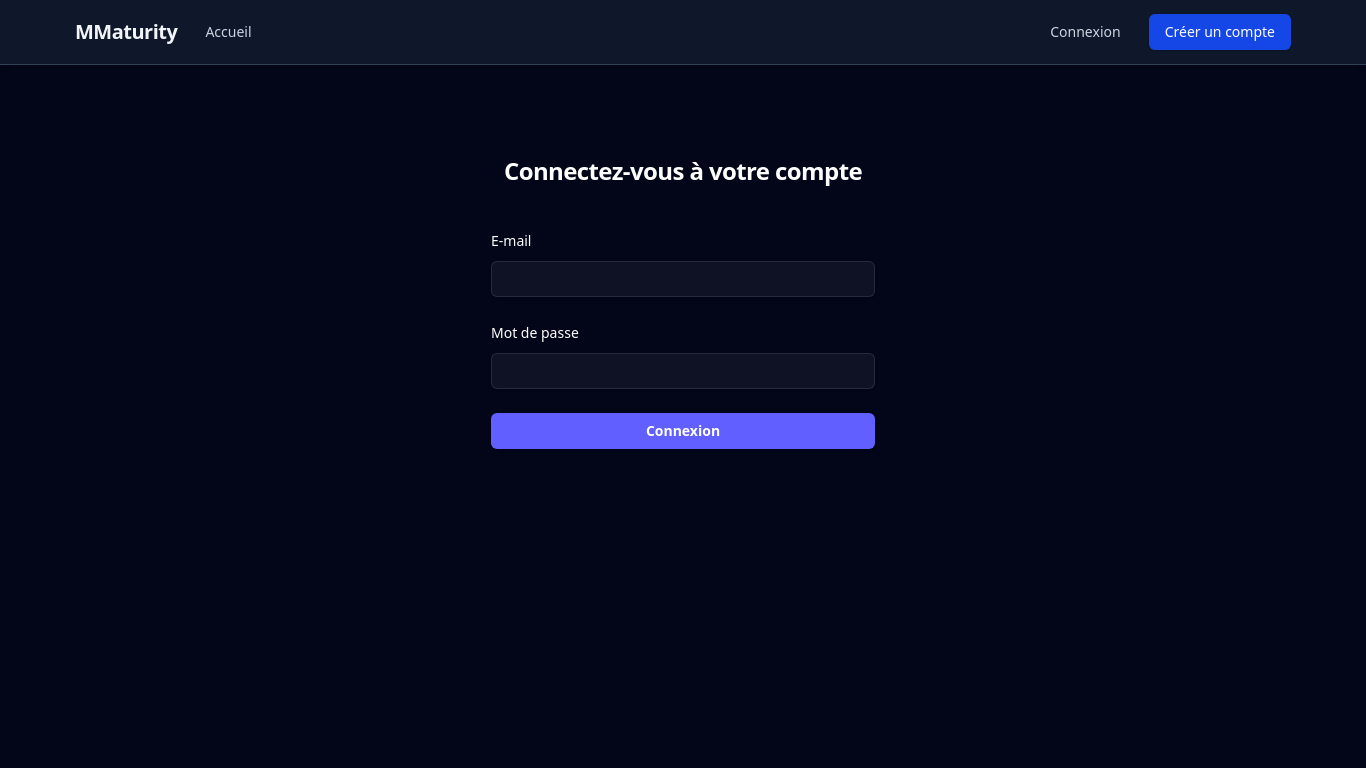
Authentication › should handle login error
This screenshot has width=1366, height=768.
Type "wrong@example.com" into the field named "email" at (683, 279), box 491,261 -> 875,297
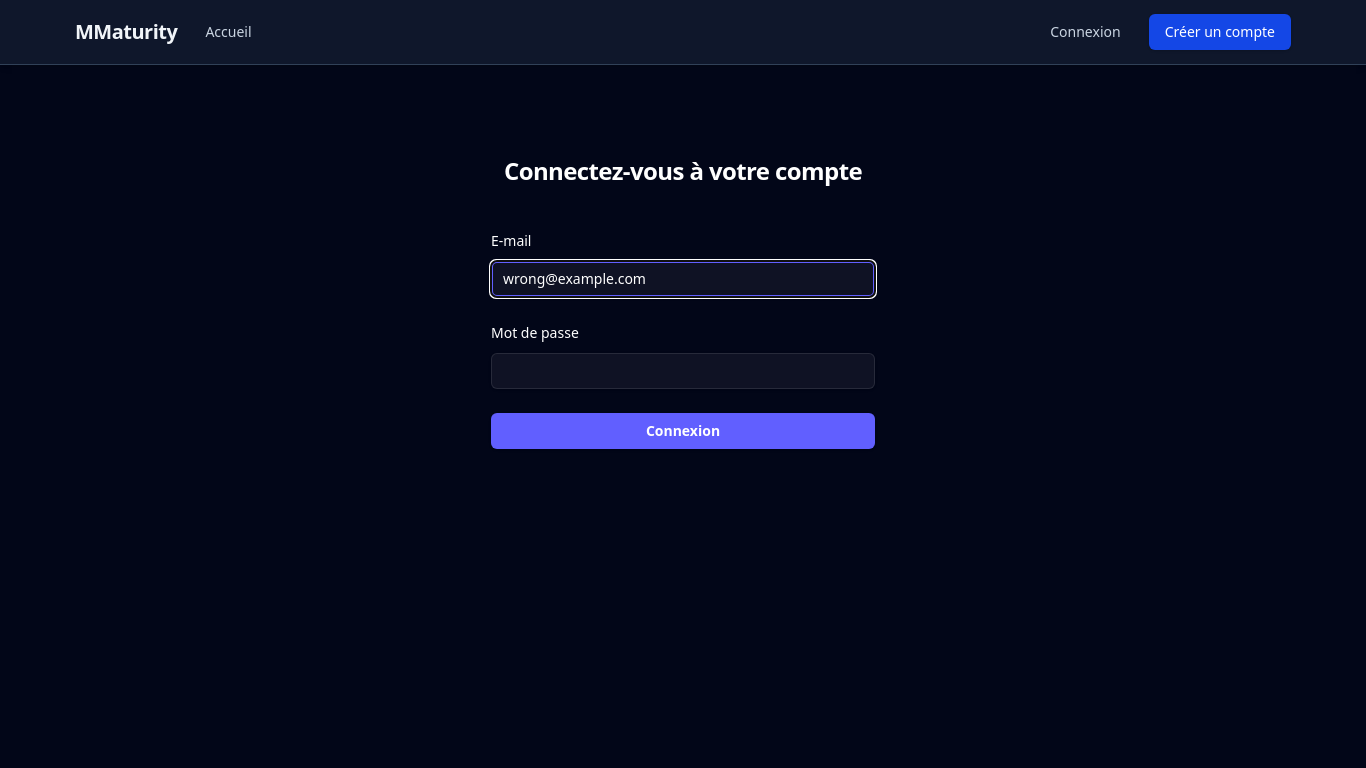
Type "wrongpass" into the password field named "password" at (683, 371), box 491,353 -> 875,389
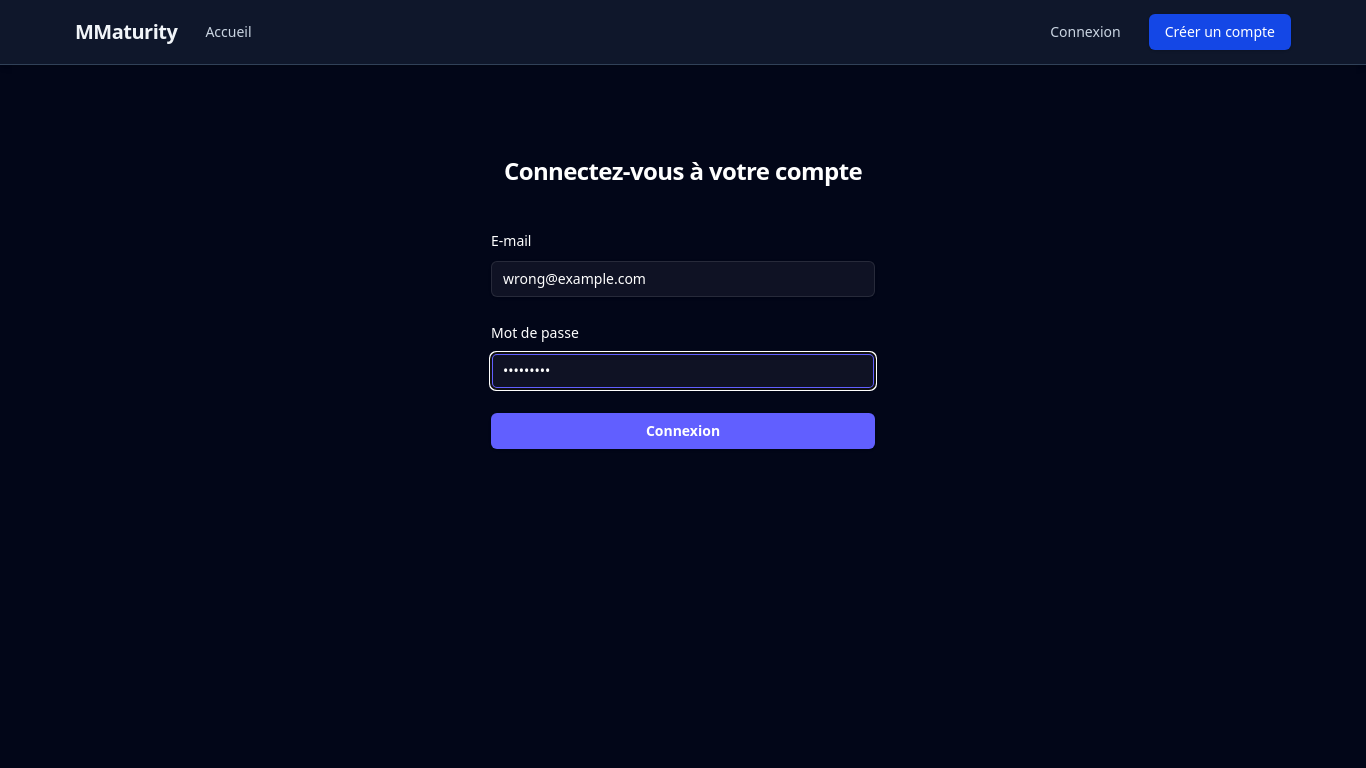
Click the submit button at (683, 431), box 491,413 -> 875,449
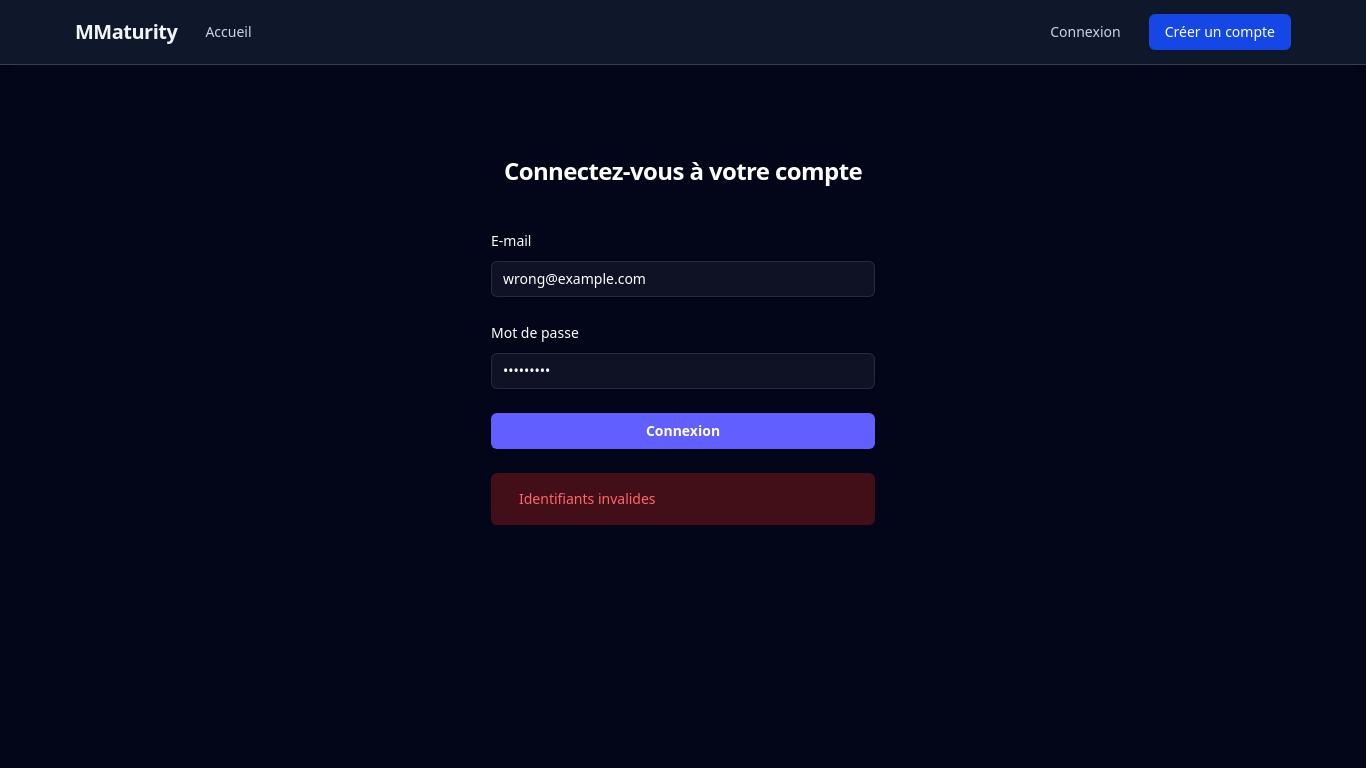
Check: the heading "Identifiants invalides" is shown, box 519,489 -> 656,509
